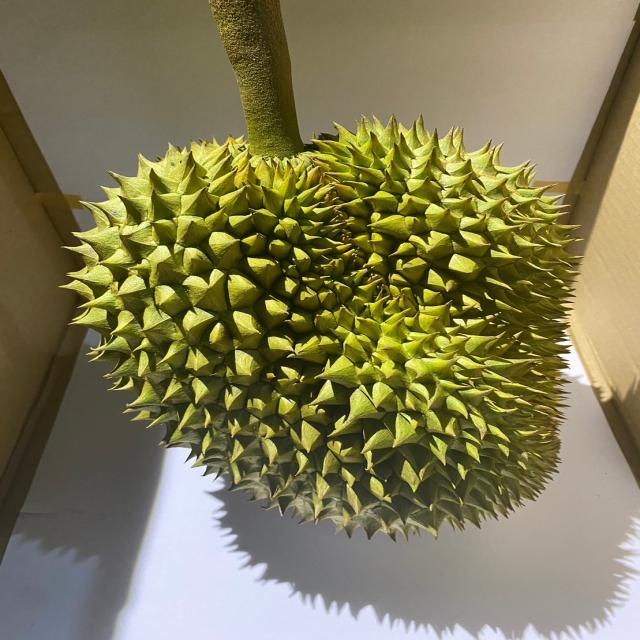immature: (61, 112, 585, 542)
